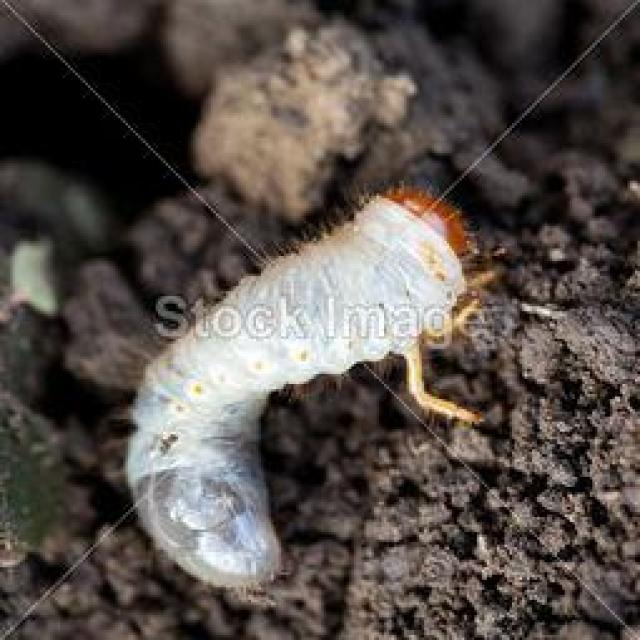Grub-Adult-: (111, 174, 519, 590)
